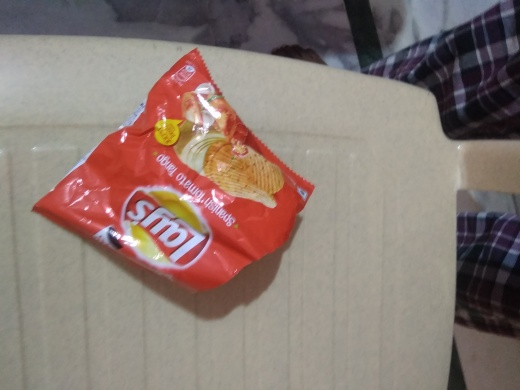lays: (41, 39, 322, 318)
